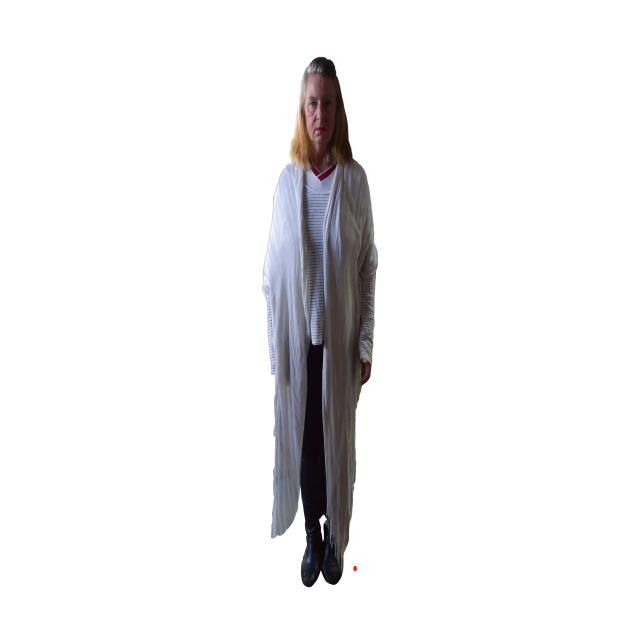jovem: (260, 45, 396, 622)
